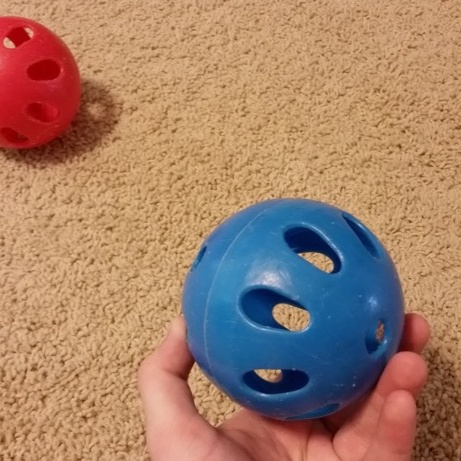blueball: (177, 191, 412, 428)
redball: (0, 11, 85, 159)
